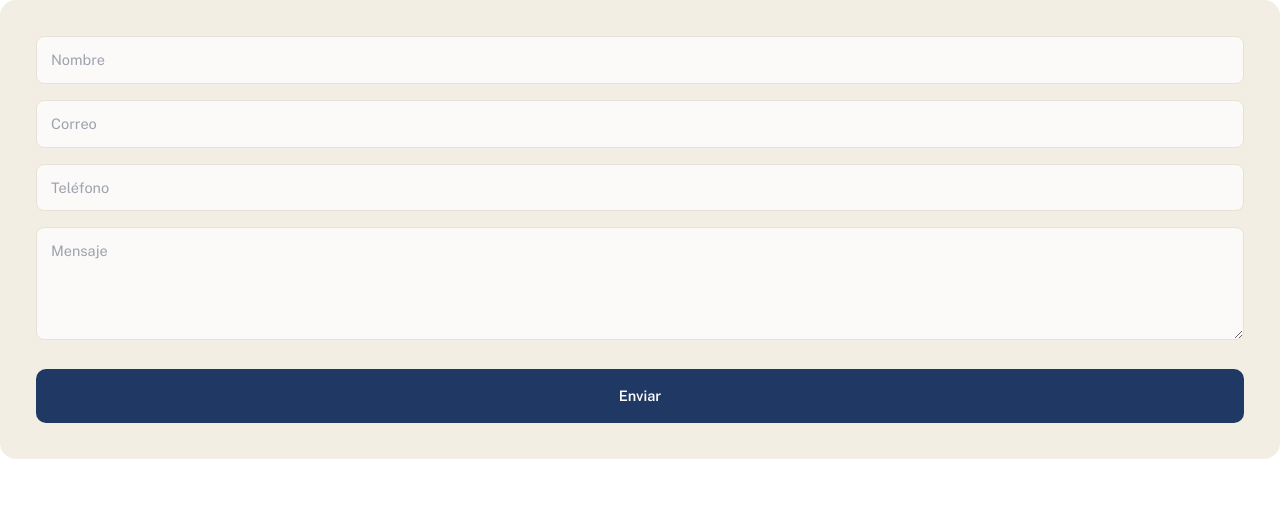
Scenario: ContactForm › submits valid data and shows the success message
Type "Juan Pérez" into the field with placeholder "Nombre" at (640, 60), box [36, 36, 1244, 84]
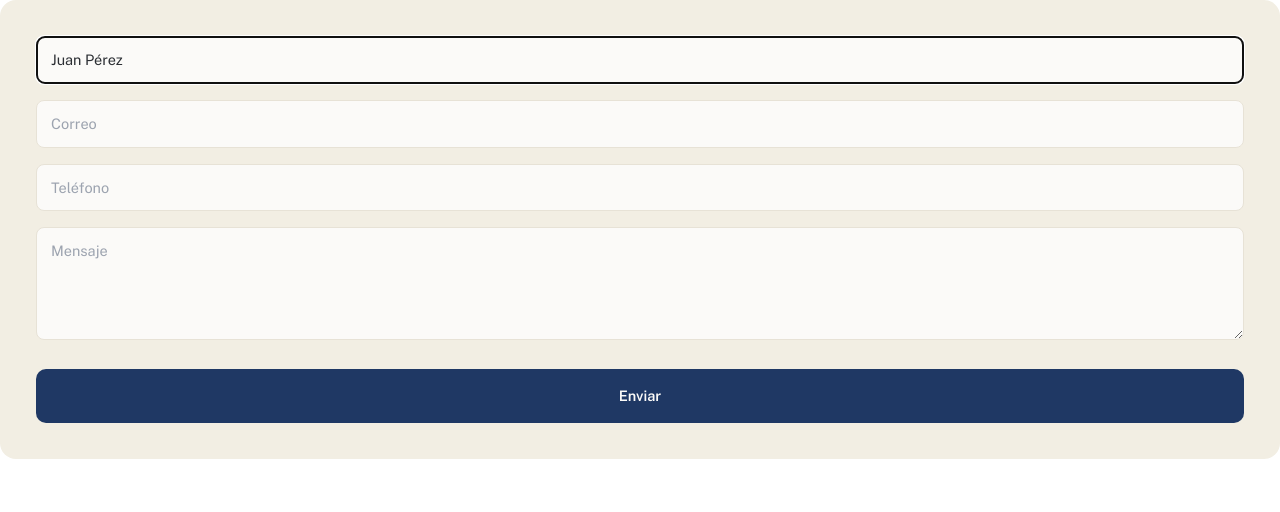
Type "juan@example.com" into the field with placeholder "Correo" at (640, 124), box [36, 100, 1244, 148]
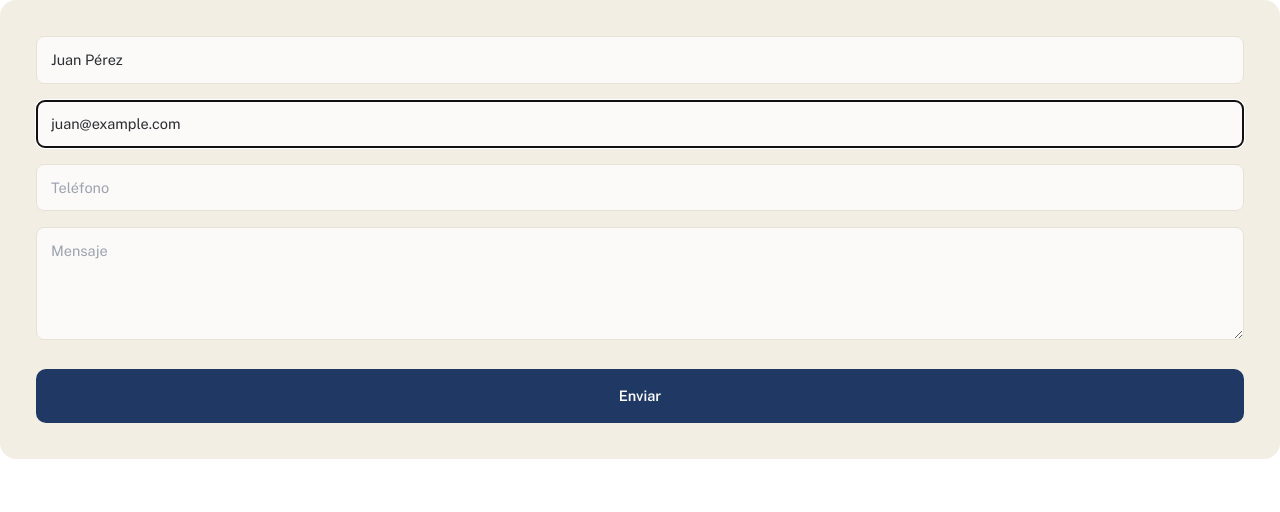
Type "Necesito ayuda con mi visado." into the text box with placeholder "Mensaje" at (640, 284), box [36, 227, 1244, 340]
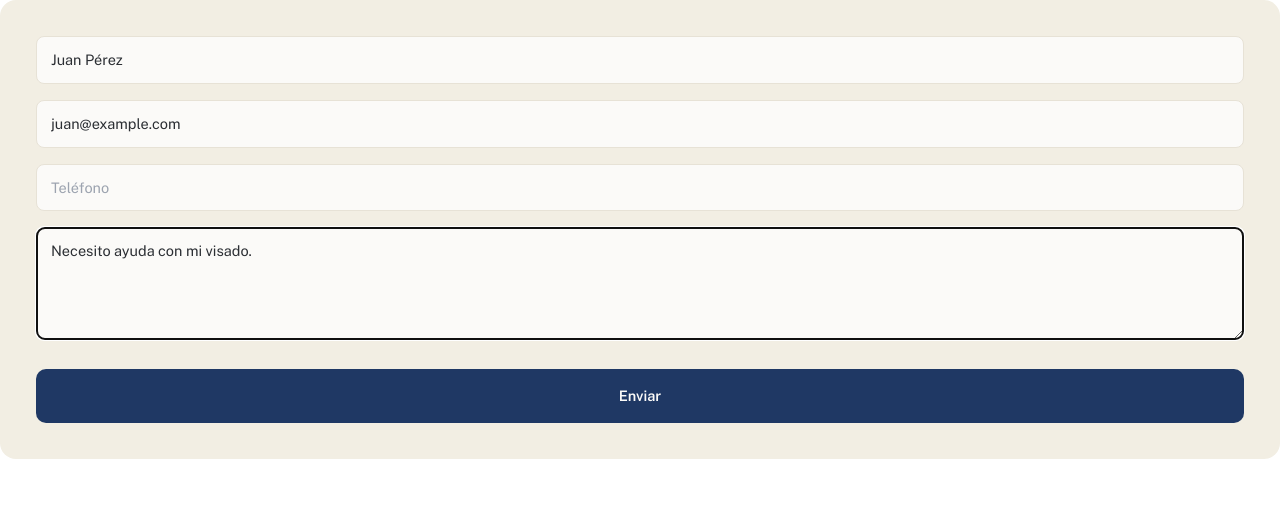
Click the button "Enviar" at (640, 396), box [36, 369, 1244, 423]
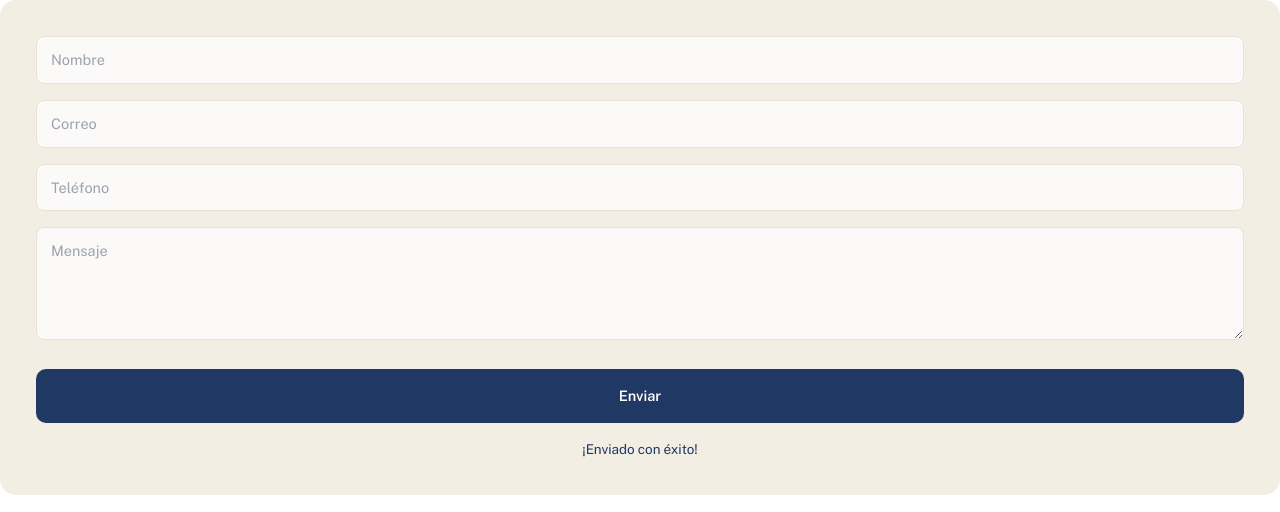
Check: the text "¡Enviado con éxito!" is shown, box [582, 441, 698, 457]
